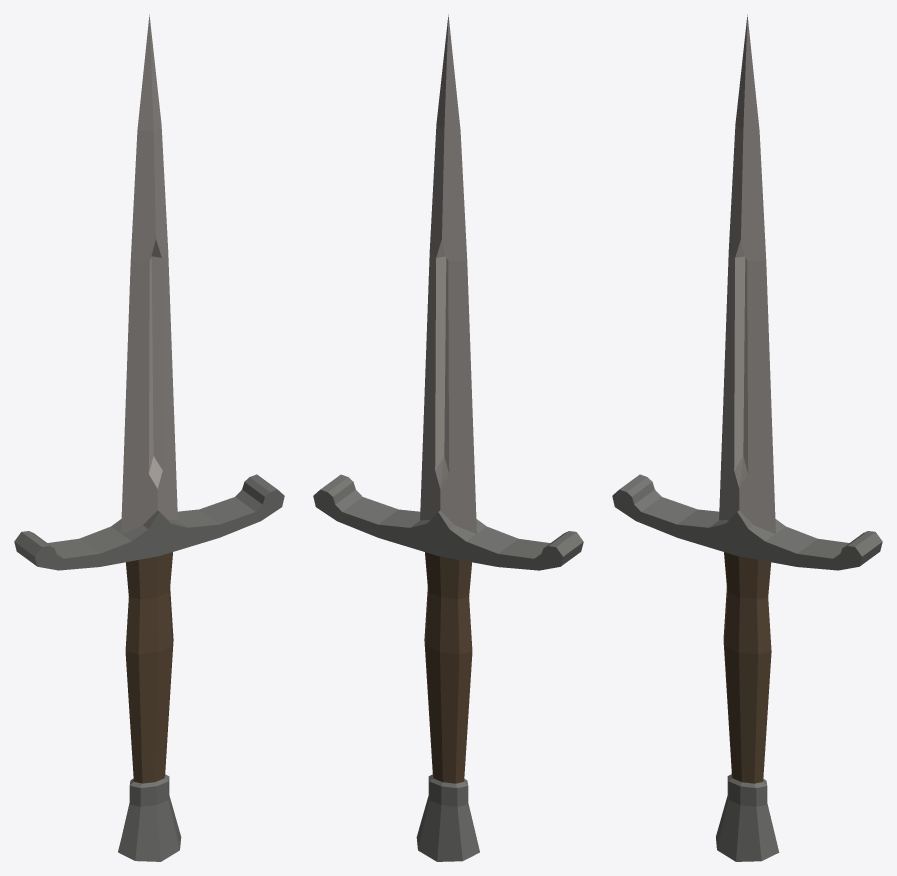
The model's file is SM_pwe_medieval_dagger_04.fbx.
3 views of the same model, side by side, from view 1: azimuth 30°, elevation 25°; view 2: azimuth 150°, elevation 25°; view 3: azimuth 330°, elevation 25° (orthographic).
Visible parts, largest first — view 1: SM_pwe_medieval_dagger_04; view 2: SM_pwe_medieval_dagger_04; view 3: SM_pwe_medieval_dagger_04.
Part boxes in pixels (left/top/right/bottom): SM_pwe_medieval_dagger_04: left=14, top=14, right=284, bottom=861; SM_pwe_medieval_dagger_04: left=313, top=14, right=583, bottom=861; SM_pwe_medieval_dagger_04: left=612, top=14, right=882, bottom=861.
Size of the model in its own units: 17.79 by 57.1 by 2.82.
